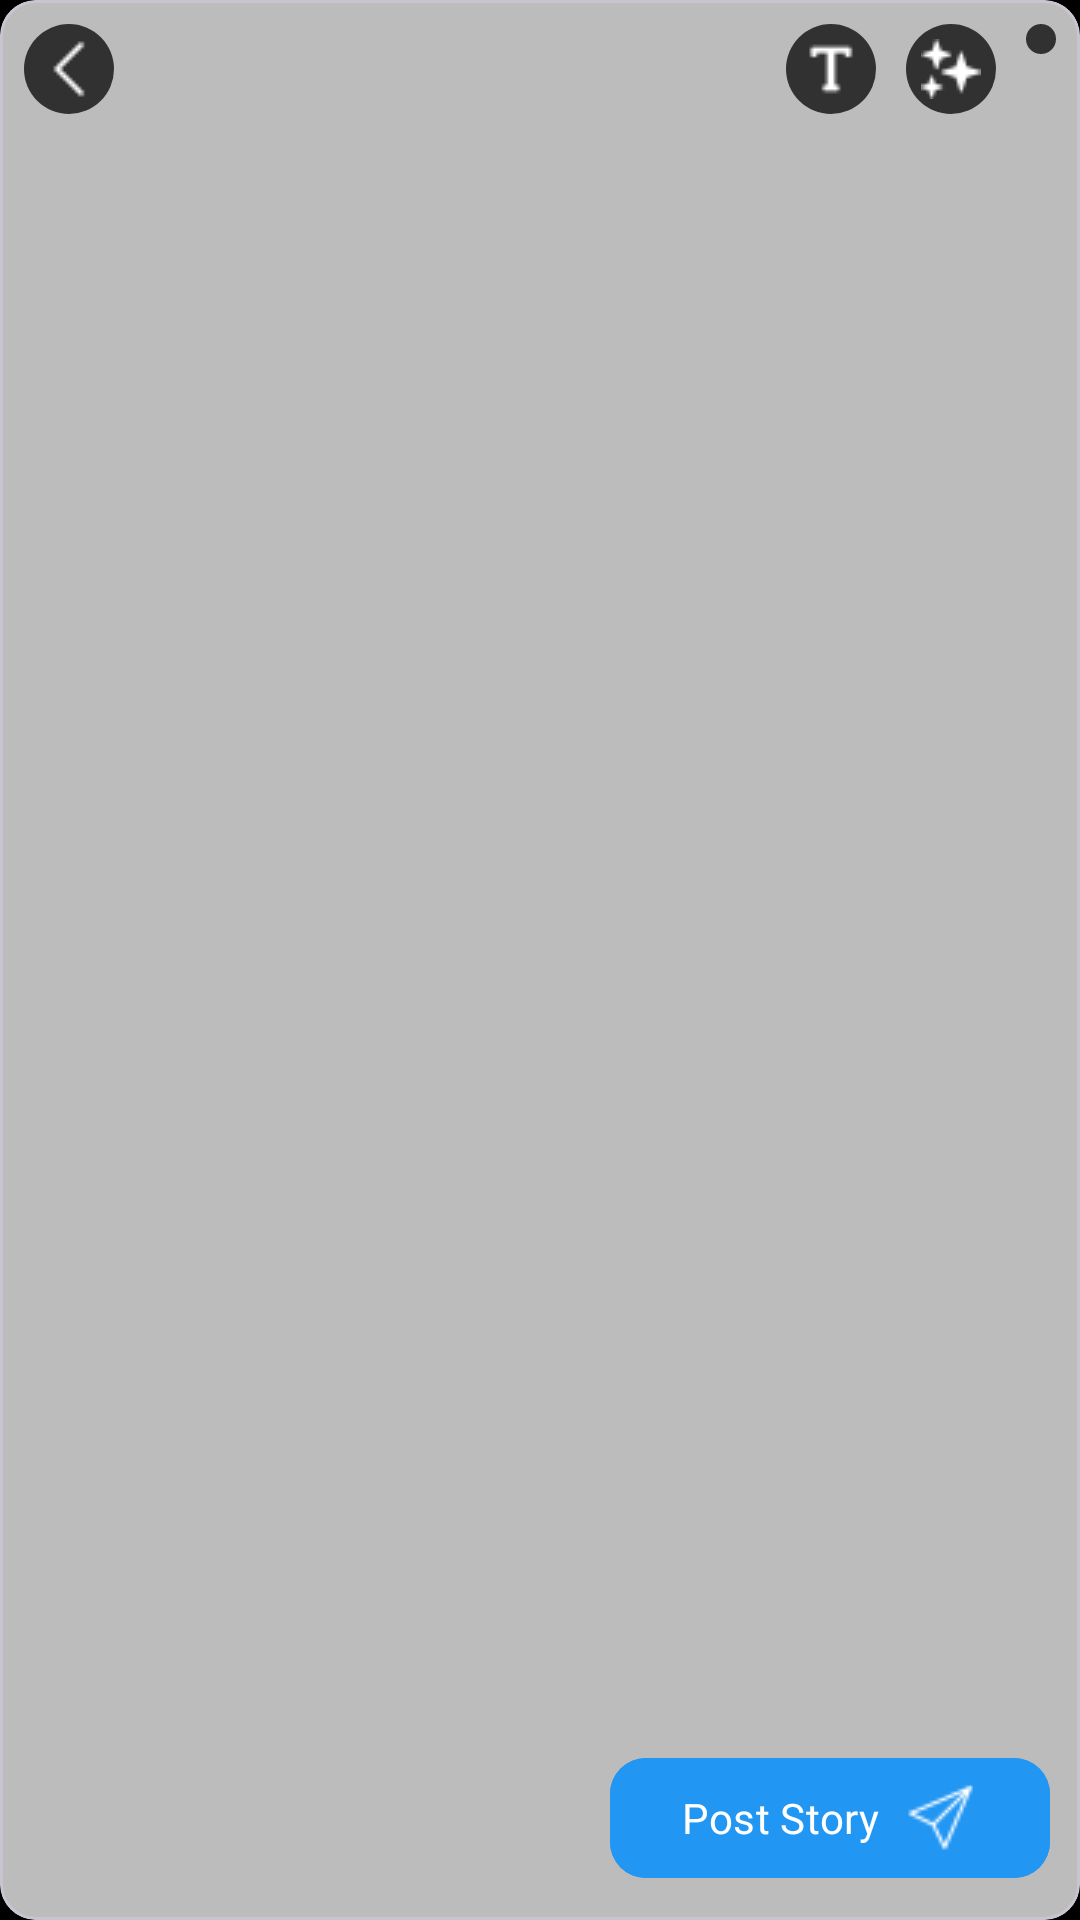

Locate icon controls on the screen. Image size 1080x1920, boxes as BBox(x1, y1, x2, y2).
back angle arrow: BBox(24, 24, 114, 114)
enhancement stars: BBox(906, 24, 996, 114)
text: BBox(786, 24, 876, 114)
